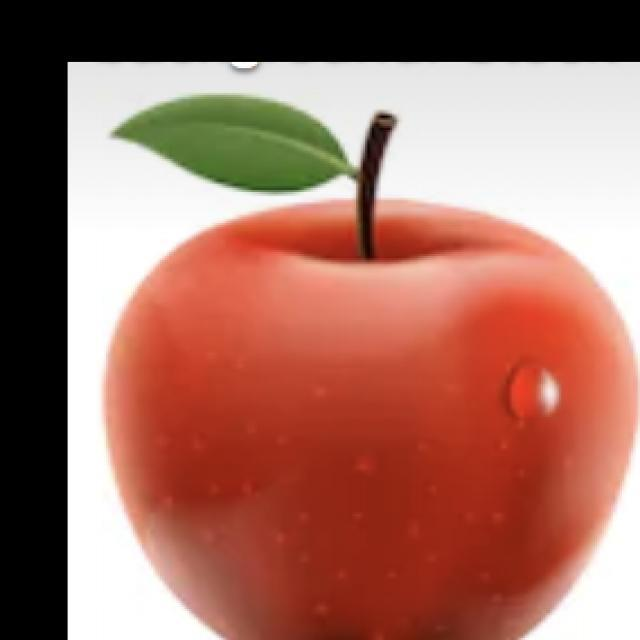Fresh Apple: (104, 186, 640, 640)
